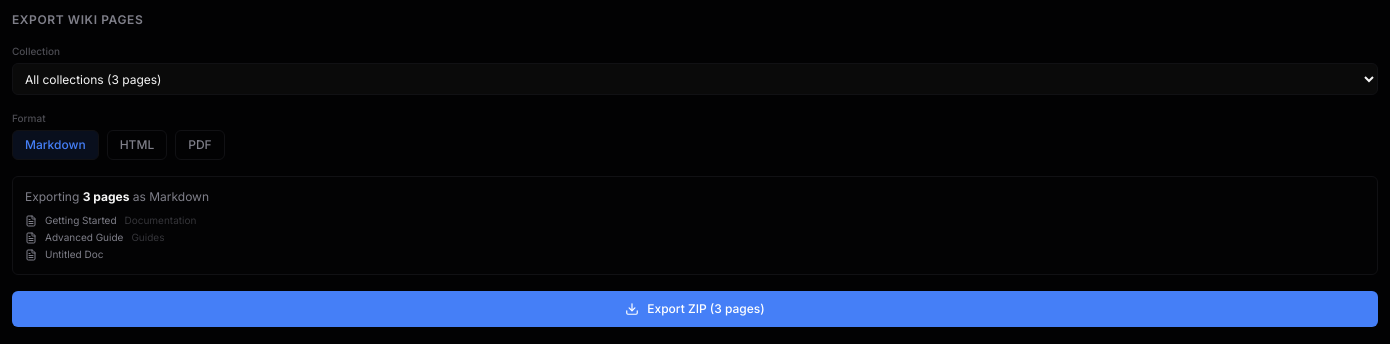
Test: BulkExport › filters pages by selected collection
Check: the text "Getting Started" is shown, box [45,213,116,228]
Select "📘 Documentation (1)" in the dropdown at (695, 79), box [12,63,1378,95]
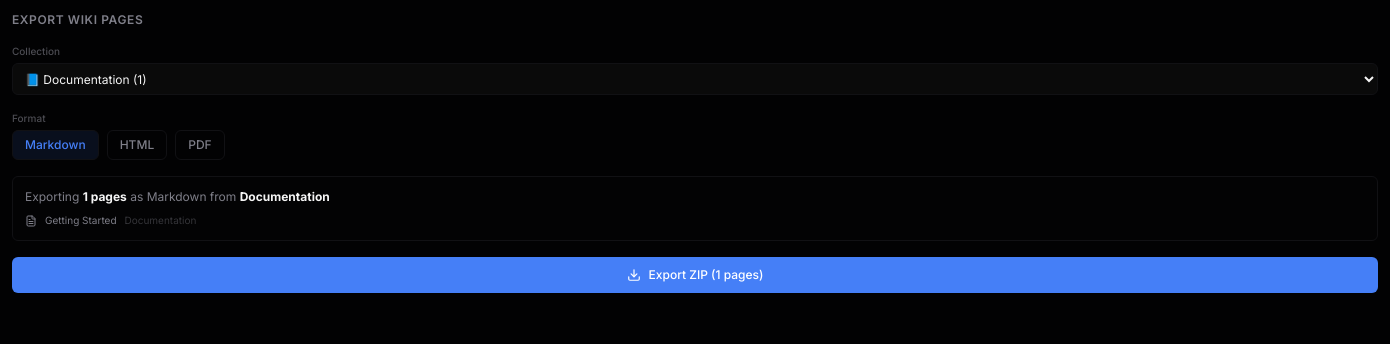
Check: the text "Getting Started" is shown, box [45,213,116,228]
Check: the text "Advanced Guide" is gone
Check: the text "1 pages" is shown, box [83,189,127,204]
